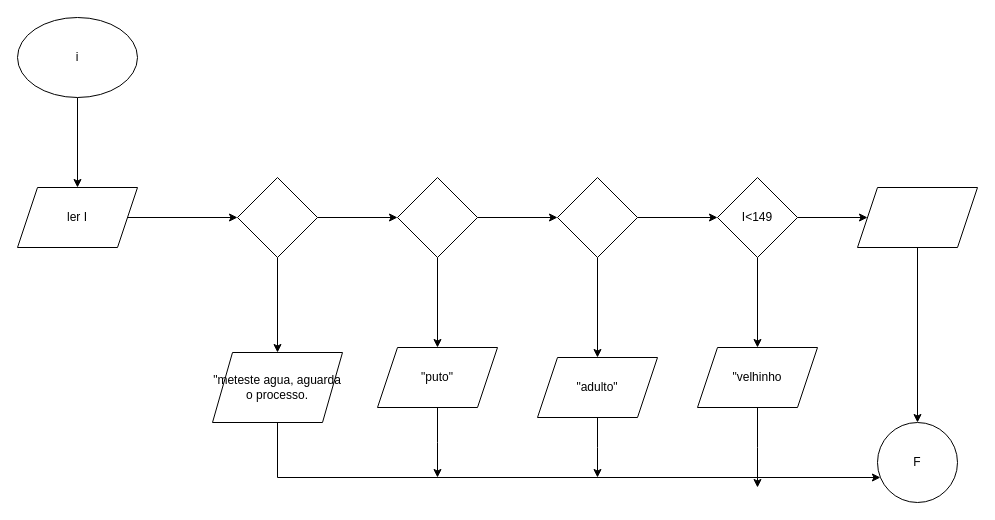
Image size: 995x520. Some labels were removed from this diagram. The box of each missing label's shape, as (x1, y1, x2, y2) in pixels:
"dinossauro": (856, 186, 978, 248)
I< 65: (556, 176, 638, 258)
I<0: (236, 176, 318, 258)
I<17: (396, 176, 478, 258)
